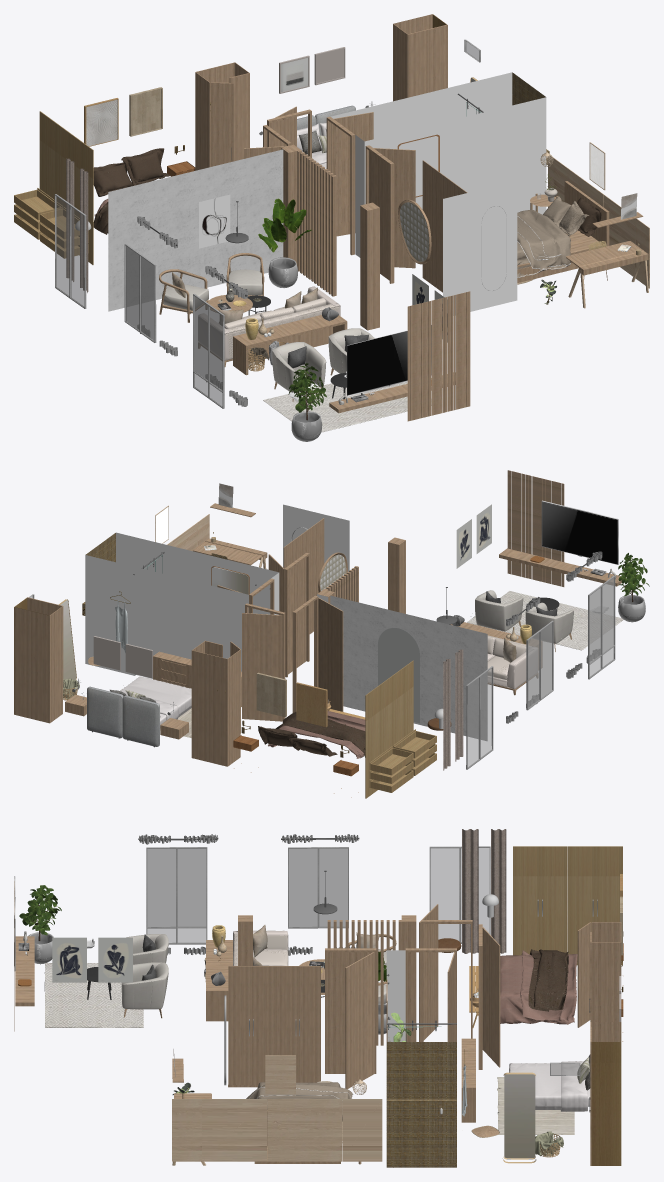
File: burgos-floor-0-0.glb
The picture shows the model from 3 angles, top to bottom: view 1: azimuth 30°, elevation 25°; view 2: azimuth 150°, elevation 25°; view 3: azimuth 270°, elevation 25°; orthographic projection. The views are drawn at different scales.
Parts seen in each view (by area): view 1: 3DGeom-12435, 3DGeom-13391, 3DGeom-13468, 3DGeom-12122, 3DGeom-13018, 3DGeom-1862, 3DGeom-13001, 3DGeom-2126, 3DGeom-12147, 3DGeom-2204, 3DGeom-12259, 3DGeom-12214 (+14 smaller); view 2: 3DGeom-12435, 3DGeom-13391, 3DGeom-13468, 3DGeom-13018, 3DGeom-12122, 3DGeom-12147, 3DGeom-1293.003, 3DGeom-1862, 3DGeom-2204, 3DGeom-81.002, 3DGeom-12431, 3DGeom-94.001 (+17 smaller); view 3: 3DGeom-12435, 3DGeom-2126, 3DGeom-12122, 3DGeom-13018, 3DGeom-13270, 3DGeom-12259, 3DGeom-12465, 3DGeom-48.028, 3DGeom-2207, 3DGeom-1862, 3DGeom-12431, 3DGeom-1264.004 (+14 smaller).
Boxes of the visible parts, x1,y1,x2,y2 form: 3DGeom-12435: (159, 14, 648, 421); 3DGeom-13391: (331, 72, 546, 315); 3DGeom-13468: (108, 149, 283, 311); 3DGeom-12122: (56, 41, 478, 405); 3DGeom-13018: (14, 111, 93, 264); 3DGeom-1862: (162, 269, 374, 392); 3DGeom-13001: (517, 196, 588, 276); 3DGeom-2126: (548, 142, 649, 308); 3DGeom-12147: (347, 325, 431, 396); 3DGeom-2204: (93, 148, 601, 236); 3DGeom-12259: (263, 382, 431, 432); 3DGeom-12214: (198, 286, 340, 360); 3DGeom-12435: (14, 470, 621, 766); 3DGeom-13391: (85, 504, 349, 678); 3DGeom-13468: (330, 595, 487, 740); 3DGeom-13018: (365, 660, 436, 798); 3DGeom-12122: (30, 578, 613, 766); 3DGeom-12147: (541, 500, 618, 564); 3DGeom-1293.003: (87, 686, 159, 746); 3DGeom-1862: (475, 590, 573, 643); 3DGeom-2204: (258, 712, 365, 757); 3DGeom-81.002: (29, 575, 615, 769); 3DGeom-12431: (60, 554, 346, 679); 3DGeom-94.001: (378, 628, 419, 723); 3DGeom-12435: (14, 881, 621, 1165); 3DGeom-2126: (172, 1055, 382, 1165); 3DGeom-12122: (147, 848, 579, 1075); 3DGeom-13018: (513, 846, 622, 965); 3DGeom-13270: (386, 1042, 456, 1167); 3DGeom-12259: (44, 963, 143, 1027); 3DGeom-12465: (591, 1022, 621, 1165); 3DGeom-48.028: (462, 829, 506, 953); 3DGeom-2207: (500, 950, 577, 1024); 3DGeom-1862: (121, 934, 386, 1009); 3DGeom-12431: (387, 981, 535, 1158); 3DGeom-1264.004: (509, 1061, 590, 1111).
Bounding box in the file's own units: 9.11 × 2.49 × 10.66.
139 materials, 107 textured.
